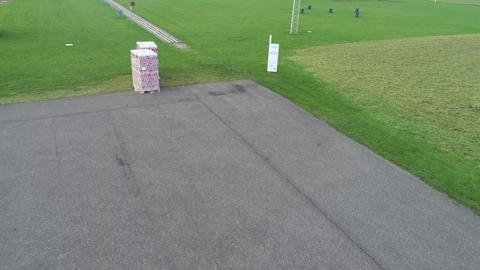RockwoolPallet: (138, 41, 155, 52)
